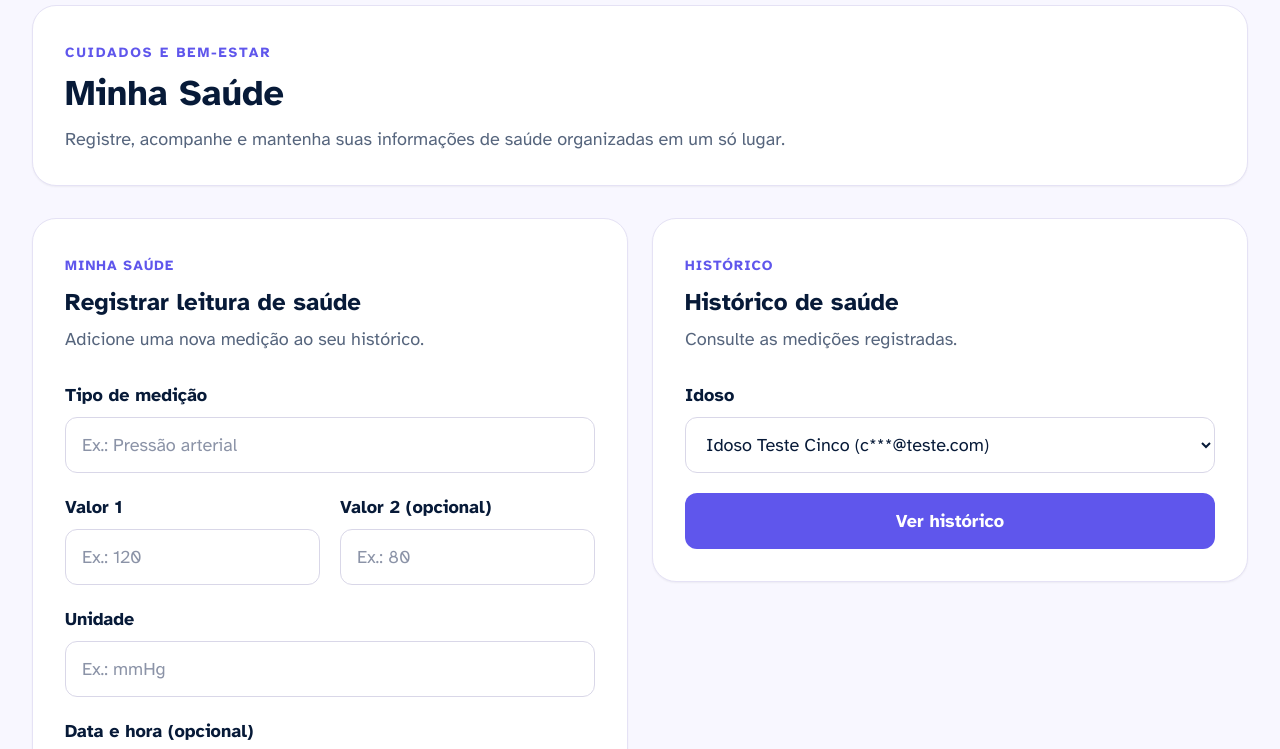
Test: Saude — registrar minha saúde › mostra erro do backend
Type "peso" into the field labelled "Tipo de medição".
click(330, 445); type("peso")  # box [65, 417, 595, 473]
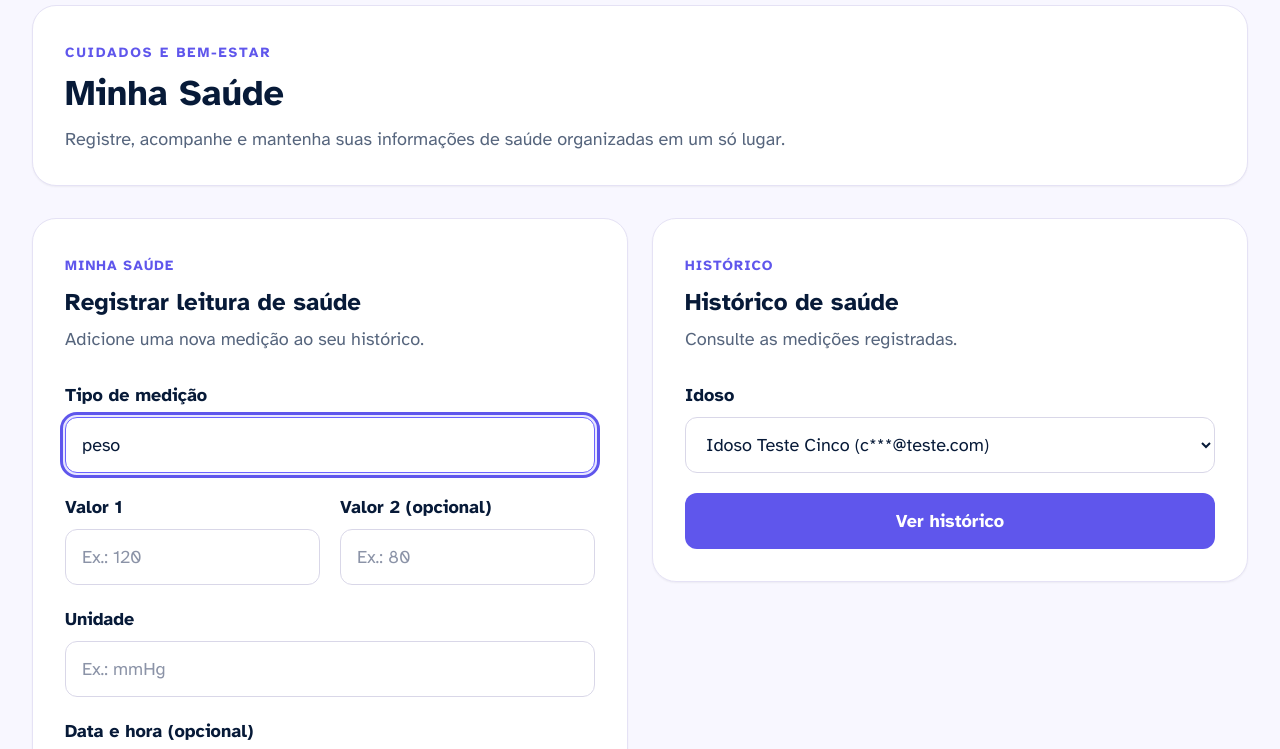
Type "70" into the number field labelled "Valor 1".
click(192, 557); type("70")  # box [65, 529, 320, 585]
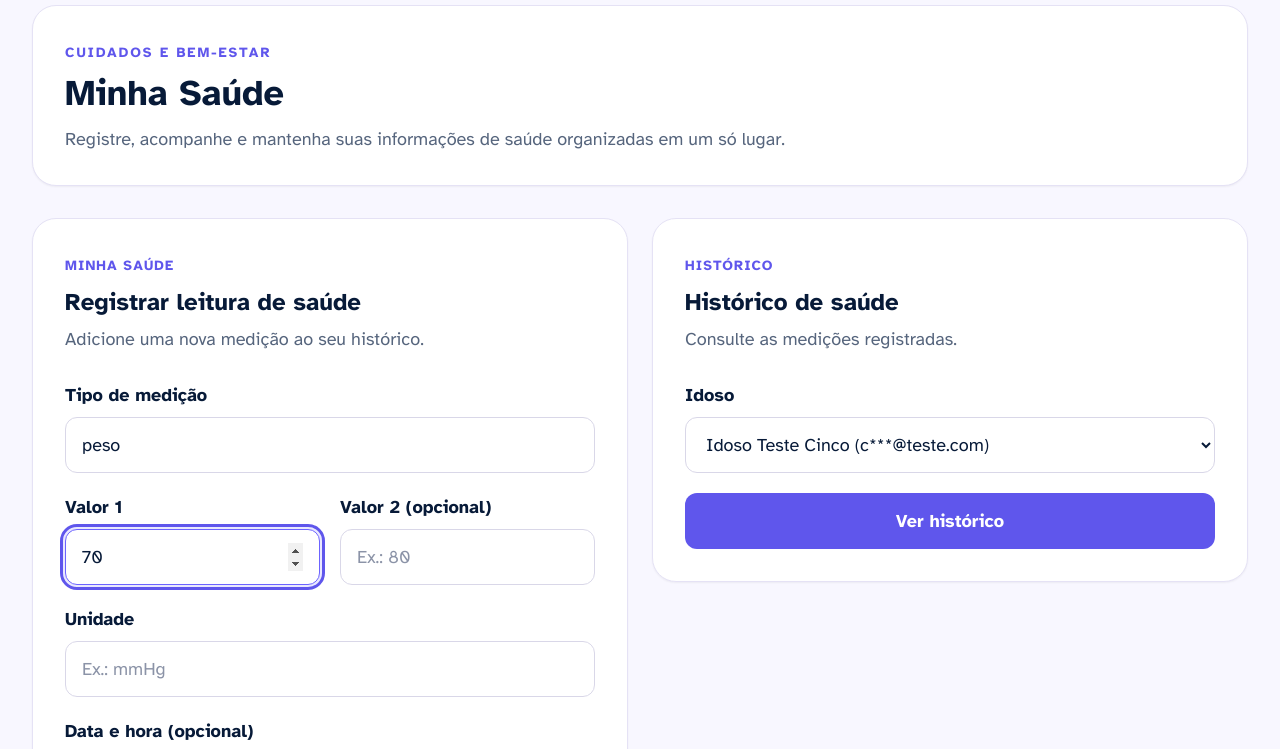
Type "kg" into the field labelled "Unidade".
click(330, 669); type("kg")  # box [65, 641, 595, 697]
(page scrolled)
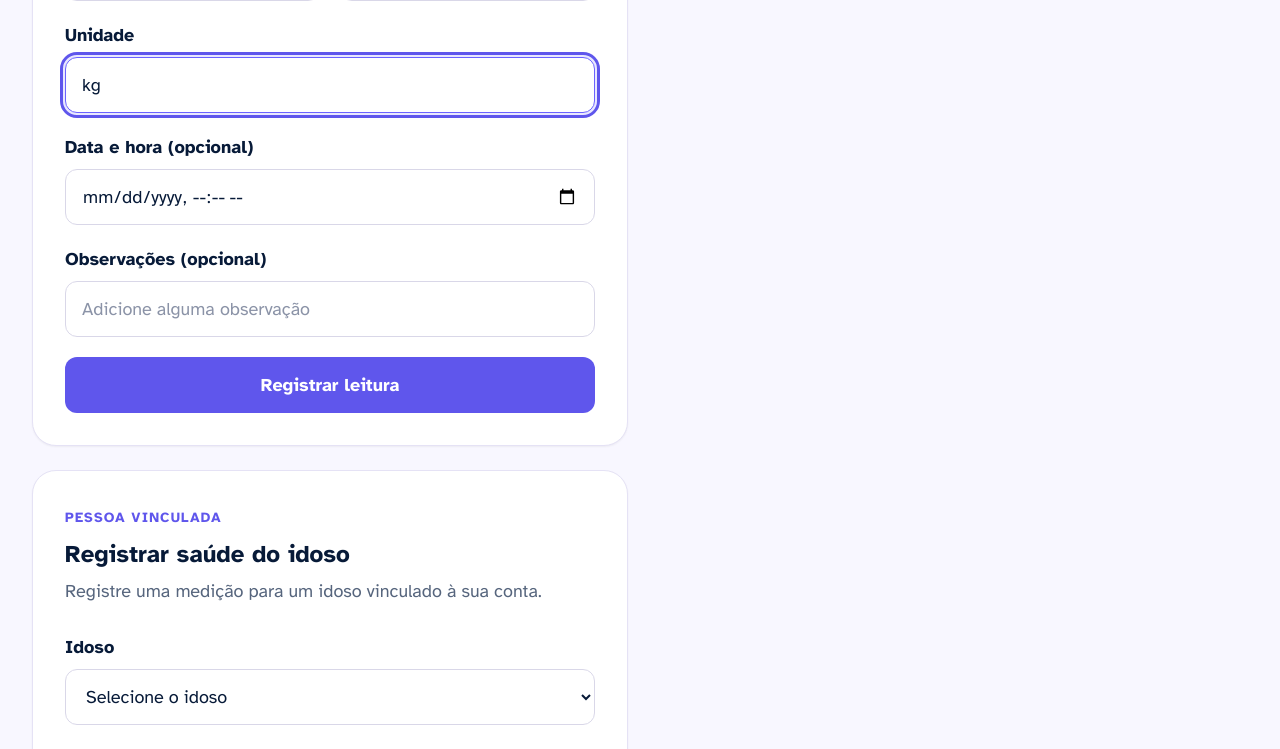
Click the button "Registrar leitura".
click(330, 385)  # box [65, 357, 595, 413]
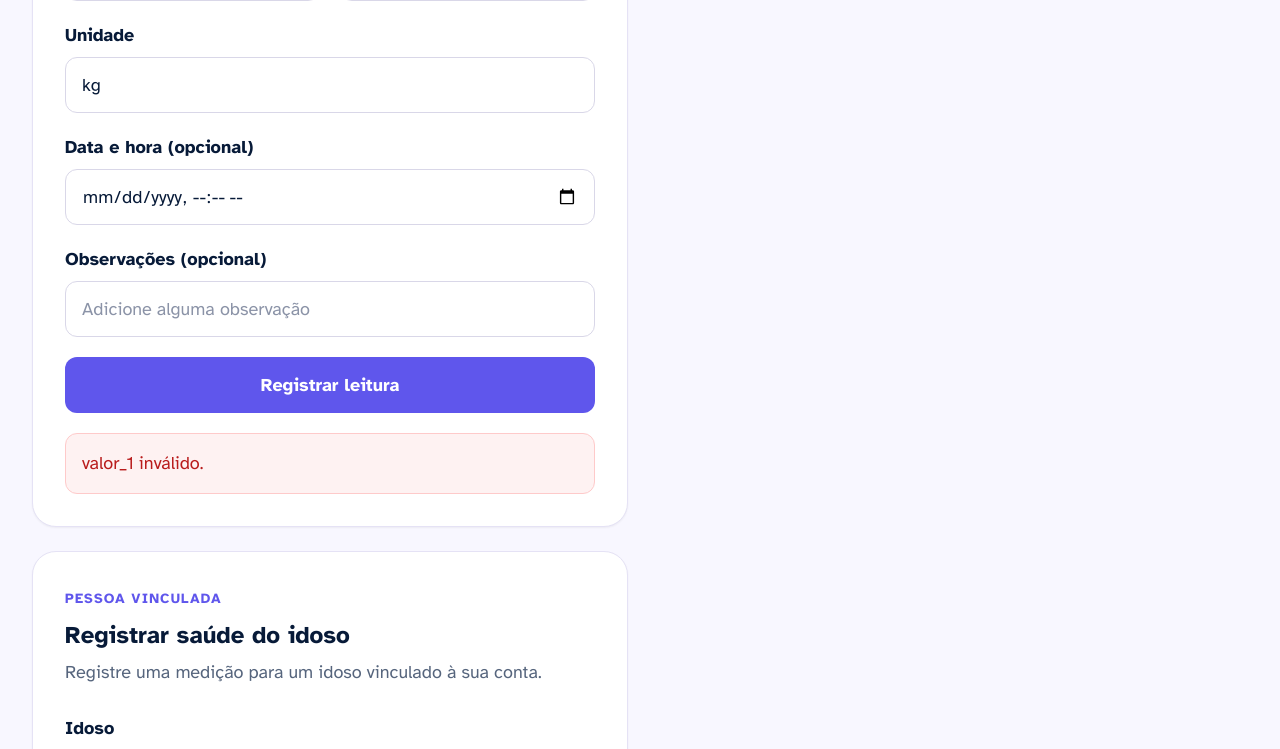
expect the message reads "valor_1 inválido.": met, box [82, 452, 204, 474]
